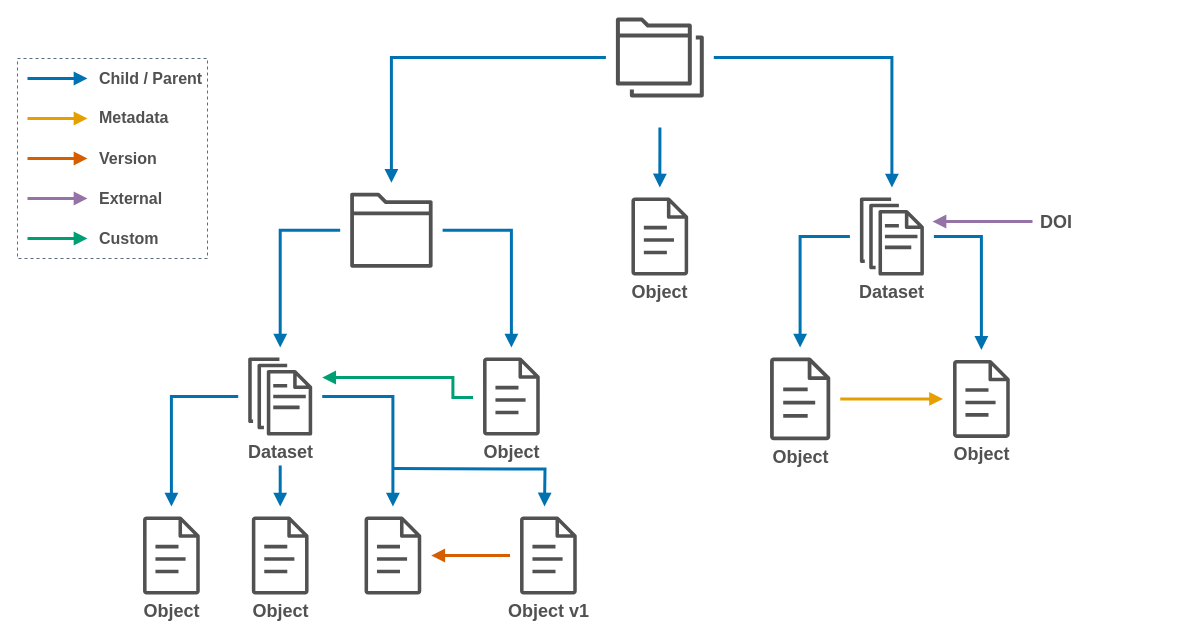
Some shapes in this 1196 by 640 pixel diagram are drawn without their labels. The shapes that lost their labels are listed below. From the top down, each one's centre as x and y in pixels, then its label:
At (659,57): "Project".
At (391,229): "Collection".
At (392,555): "Object v2".
